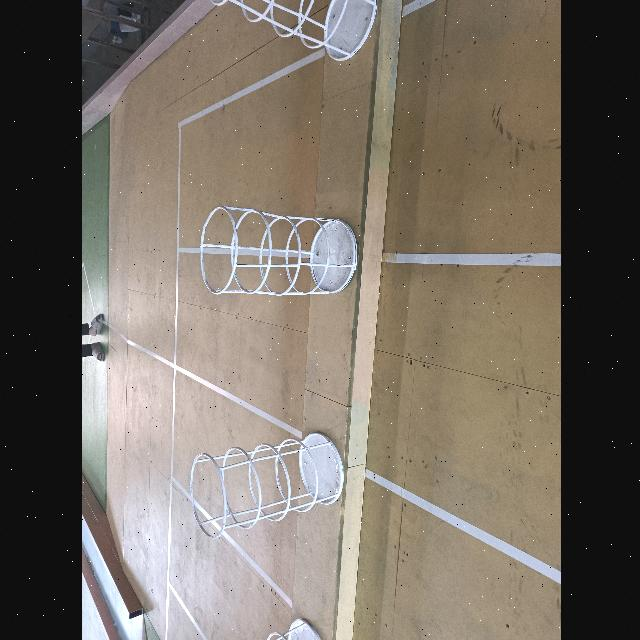S: (184, 429, 345, 544), (195, 202, 358, 297), (202, 0, 380, 64)
